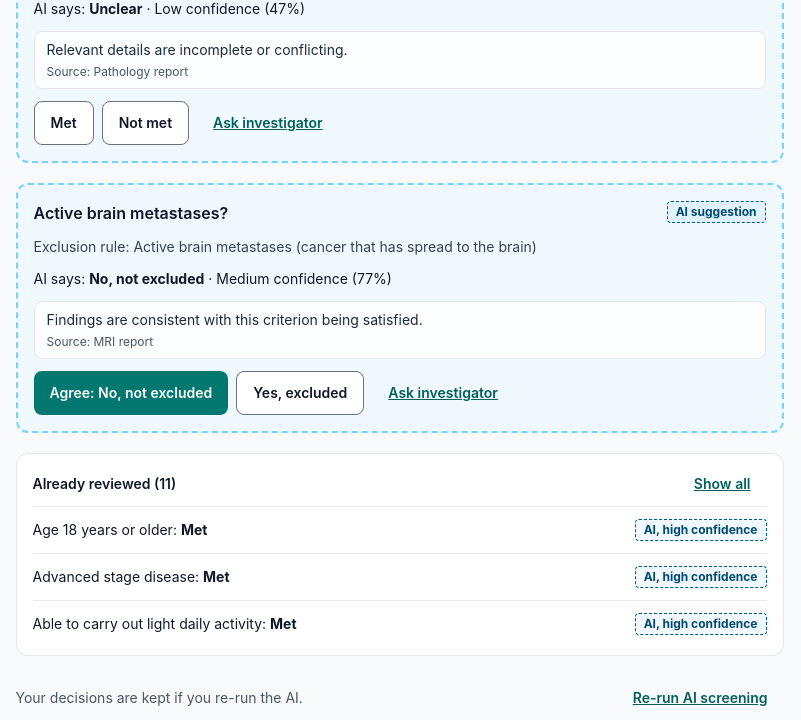
Test case: candidate review flow › agreeing with the AI updates progress at once and offers undo
The width and height of the screenshot is (801, 720).
(page scrolled)
Click the button "Agree: No, not excluded".
click(131, 393)  # box [34,371,228,415]
(page scrolled)
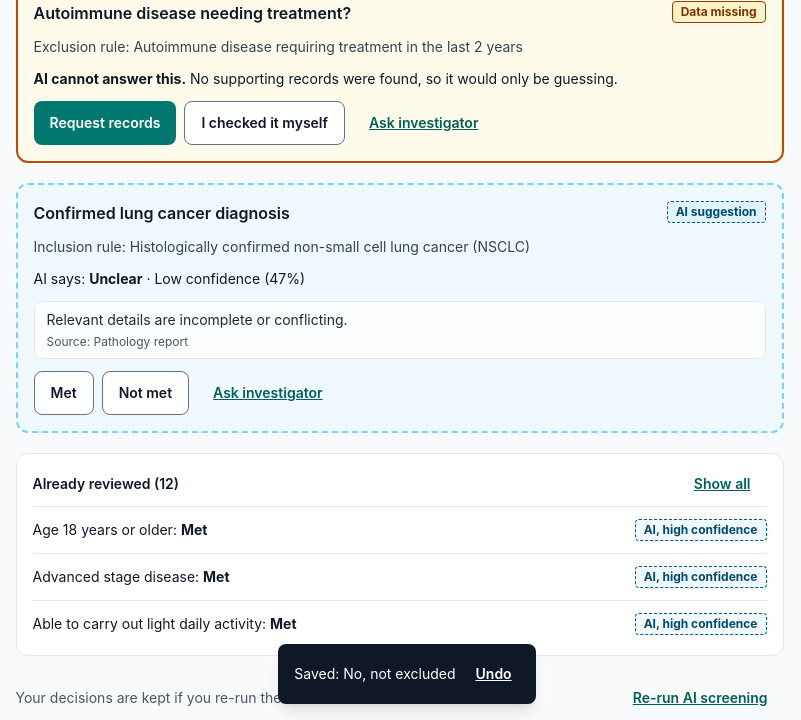
Expected: the text "Saved: No, not excluded" is shown, [294,664,456,684]
Expected: the button "Undo" is shown, [468,652,520,696]
